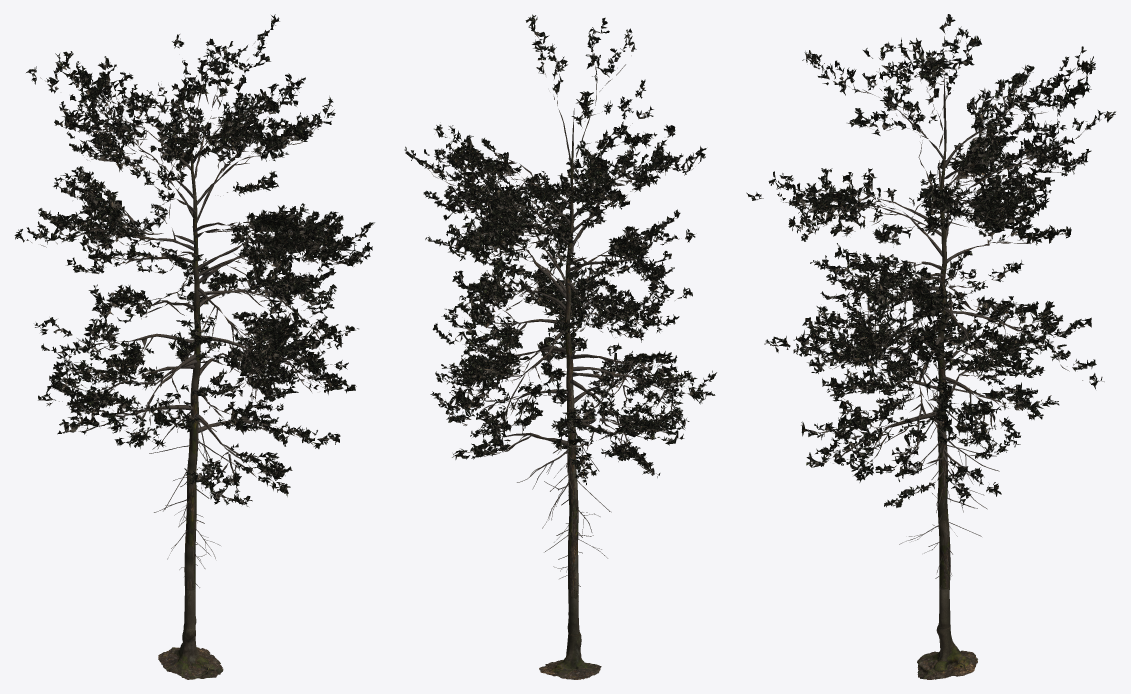
The model's file is pine_tree_01_high.glb.
The picture shows the model from 3 angles, left to right: view 1: azimuth 30°, elevation 25°; view 2: azimuth 150°, elevation 25°; view 3: azimuth 270°, elevation 25°; orthographic projection. The views are drawn at different scales.
Bounding box in the file's own units: 7.16 × 14.85 × 7.5.
4 materials, 4 textured.
